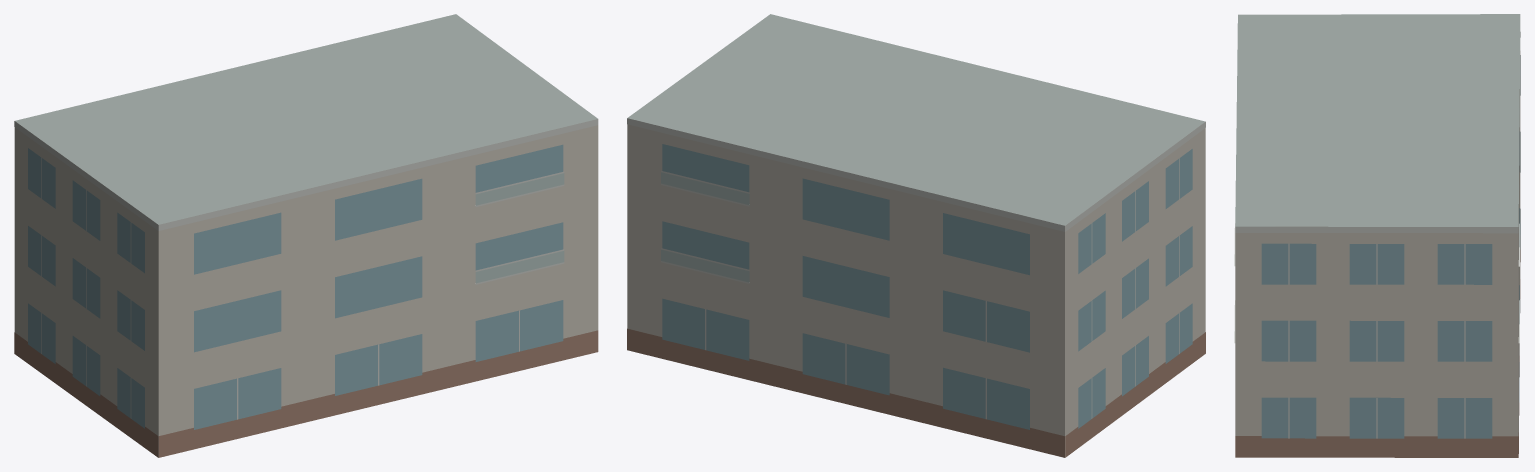
File: survey-upis-32919077.glb
The picture shows the model from 3 angles, left to right: view 1: azimuth 30°, elevation 25°; view 2: azimuth 150°, elevation 25°; view 3: azimuth 270°, elevation 25°; orthographic projection.
Parts seen in each view (by area): view 1: survey-upis-32919077.tmp; view 2: survey-upis-32919077.tmp; view 3: survey-upis-32919077.tmp.
Part boxes in pixels (<box>): survey-upis-32919077.tmp: <box>14,14,598,457</box>; survey-upis-32919077.tmp: <box>627,14,1205,457</box>; survey-upis-32919077.tmp: <box>1234,14,1520,457</box>.
Bounding box in the file's own units: 18.12 × 9.15 × 10.29.
